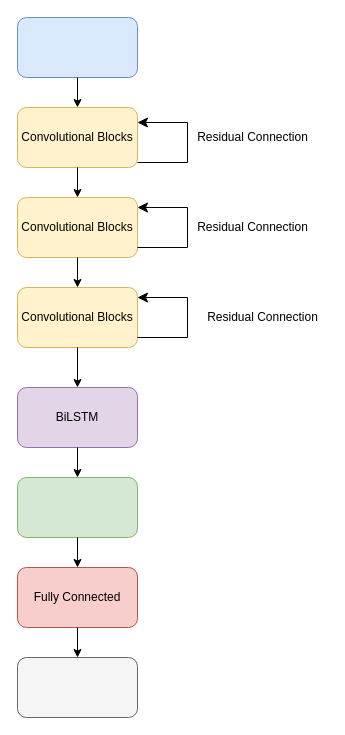
This 345x735 diagram has some shape labels left out. The box of each missing label's shape, as (x1, y1, x2, y2) in pixels:
Attention: (16, 476, 138, 538)
Input: (16, 16, 138, 78)
Output: (16, 656, 138, 718)
